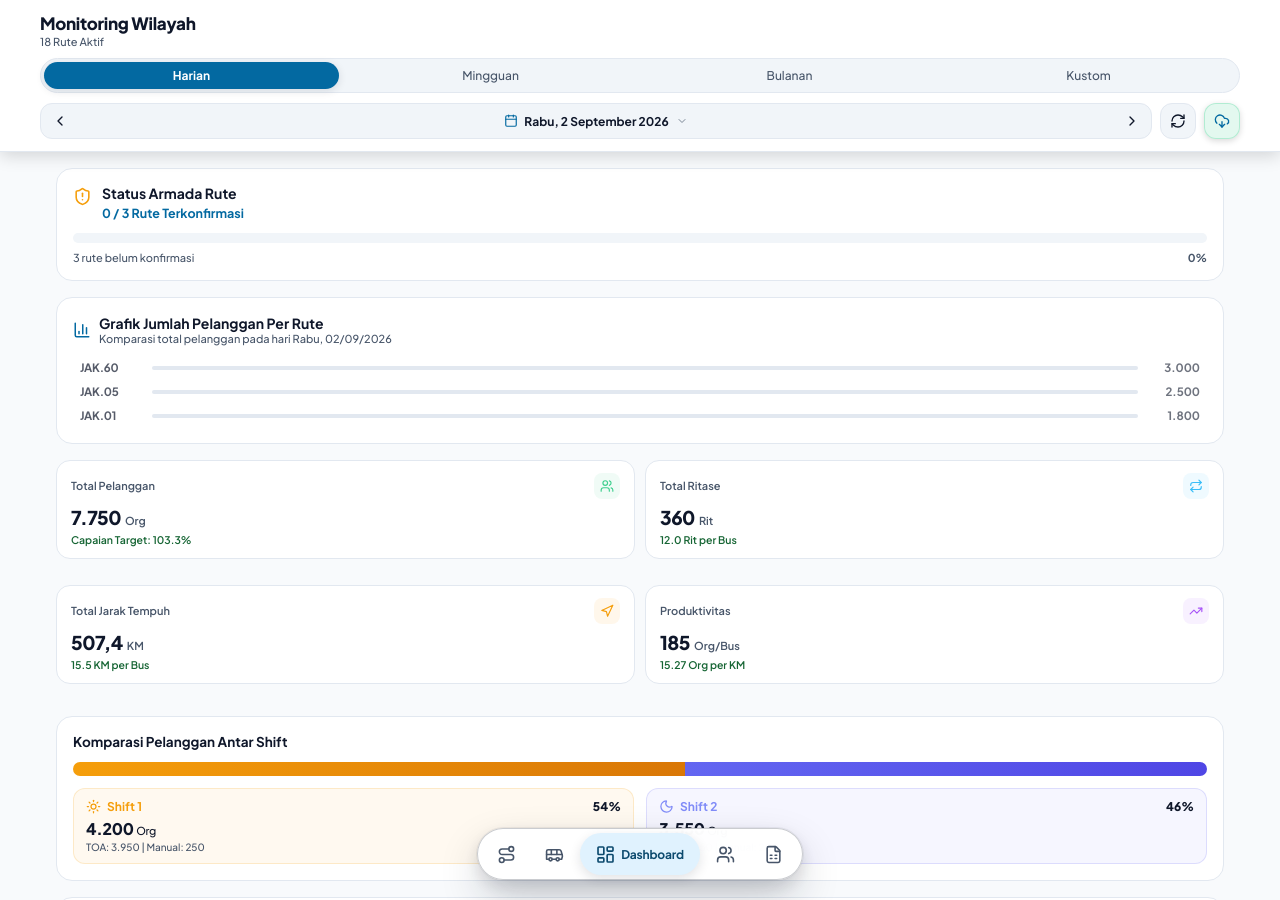
Test: AllRouteMonitoringPage Component › navigates to Rute tab and filters by supervisor
Click the tab with test id "monitoring-tab-routes" at (506, 854), box [484,833,528,875]
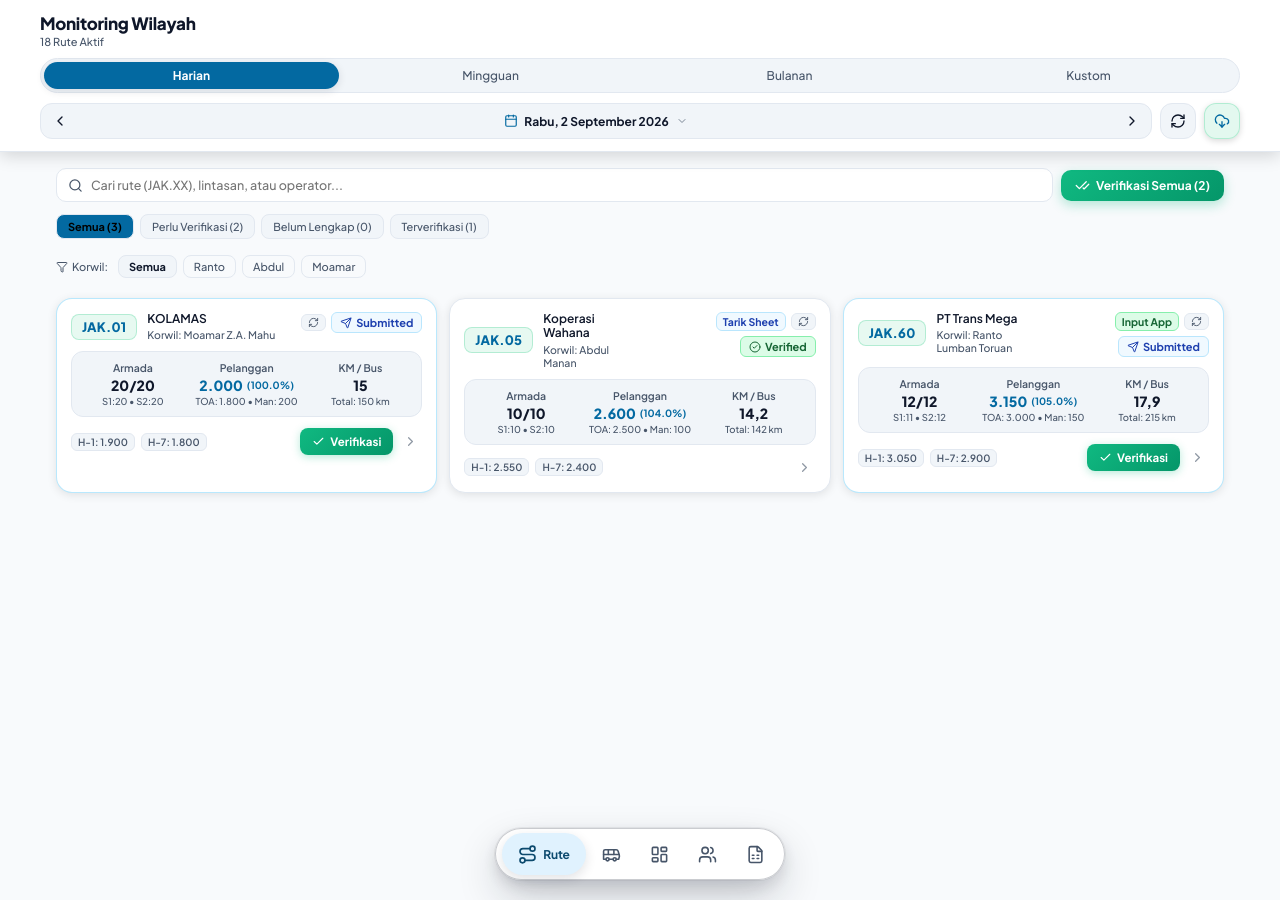
Expected: the text "JAK.60" is shown, [858,320,926,346]
Now the button "Abdul" is shown
Click the button "Abdul" at (269, 266), box [242,255,295,278]
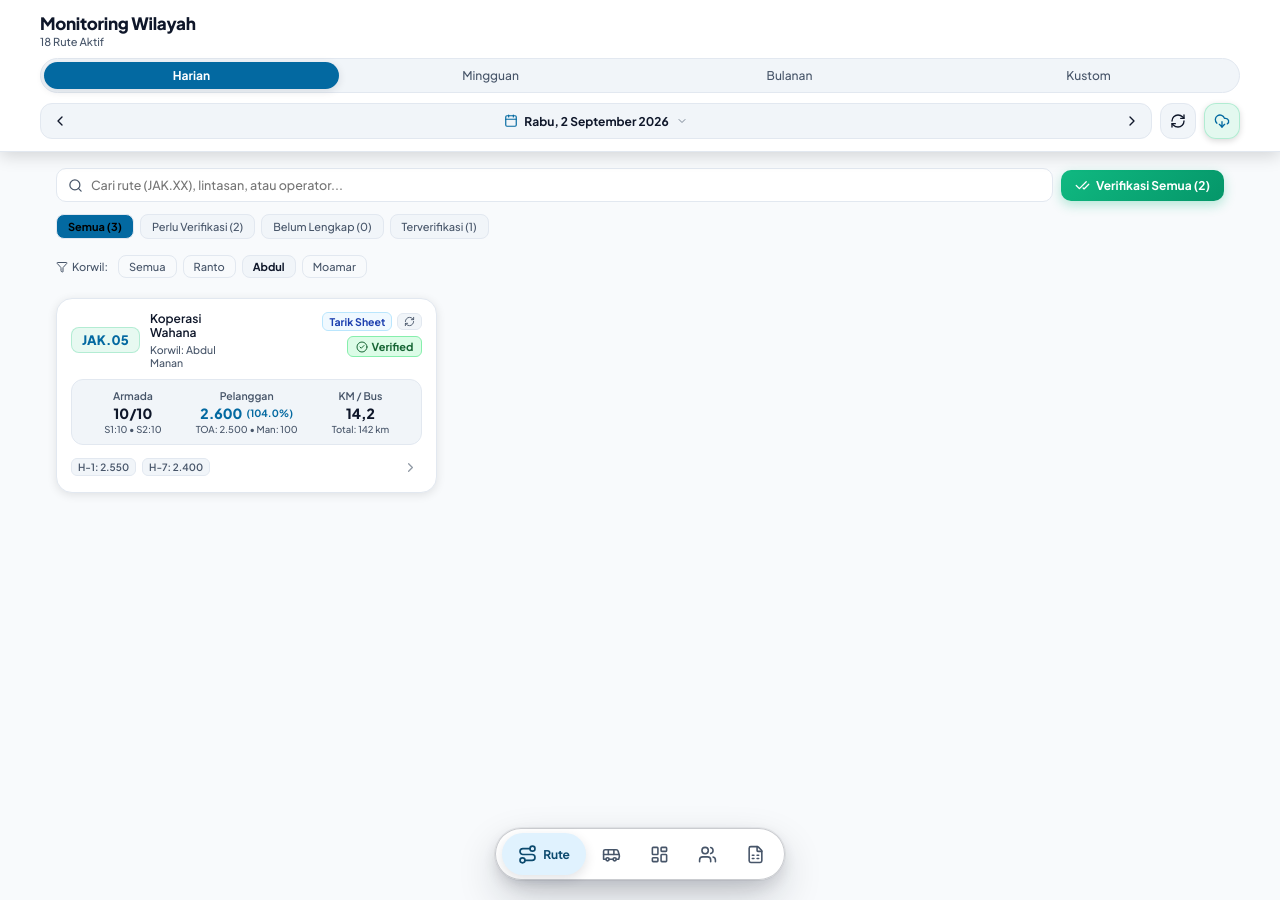
Expected: the text "JAK.05" is shown, [71,327,140,353]
Now the text "JAK.60" is gone
Now the text "JAK.01" is gone
